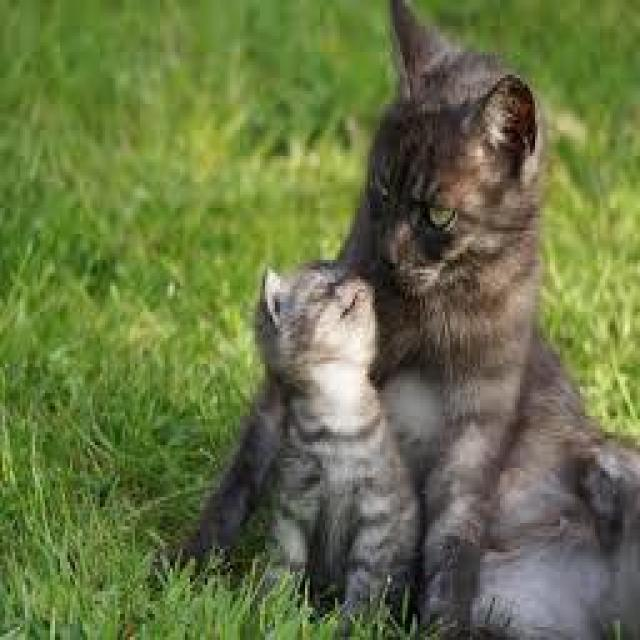Cat: (363, 6, 551, 312), (256, 259, 379, 383)
